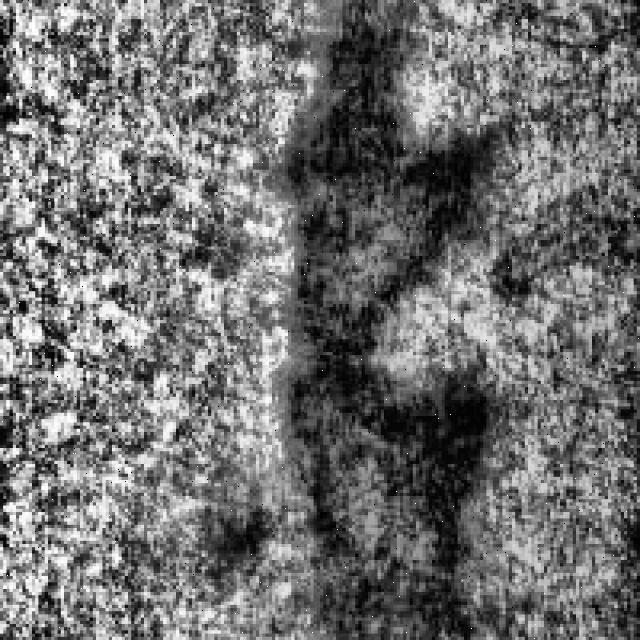Scratches: (275, 0, 512, 381), (284, 294, 518, 634)
